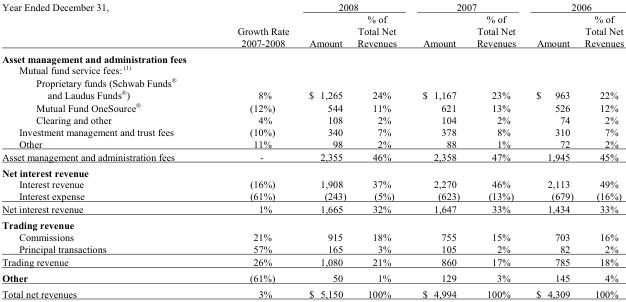table: (1, 0, 623, 298)
table column: (1, 0, 206, 298), (206, 0, 298, 298), (408, 0, 467, 298), (467, 0, 525, 298), (351, 0, 408, 298), (298, 0, 351, 298), (525, 0, 578, 298), (578, 0, 623, 298)
table column header: (1, 0, 623, 50)
table projected row header: (1, 164, 623, 178), (1, 50, 623, 63), (1, 217, 623, 230), (1, 63, 623, 75)
table row: (1, 12, 623, 50), (1, 75, 623, 100), (1, 269, 623, 285), (1, 149, 623, 164), (1, 202, 623, 217), (1, 164, 623, 178), (1, 255, 623, 269), (1, 50, 623, 63), (1, 100, 623, 113), (1, 189, 623, 202), (1, 217, 623, 230), (1, 242, 623, 255), (1, 285, 623, 298), (1, 0, 623, 12), (1, 63, 623, 75), (1, 113, 623, 125), (1, 125, 623, 137), (1, 137, 623, 149), (1, 230, 623, 242), (1, 178, 623, 189)
table spanning cell: (1, 0, 206, 50), (206, 0, 298, 50), (408, 0, 525, 12), (298, 0, 408, 12), (525, 0, 623, 12)
